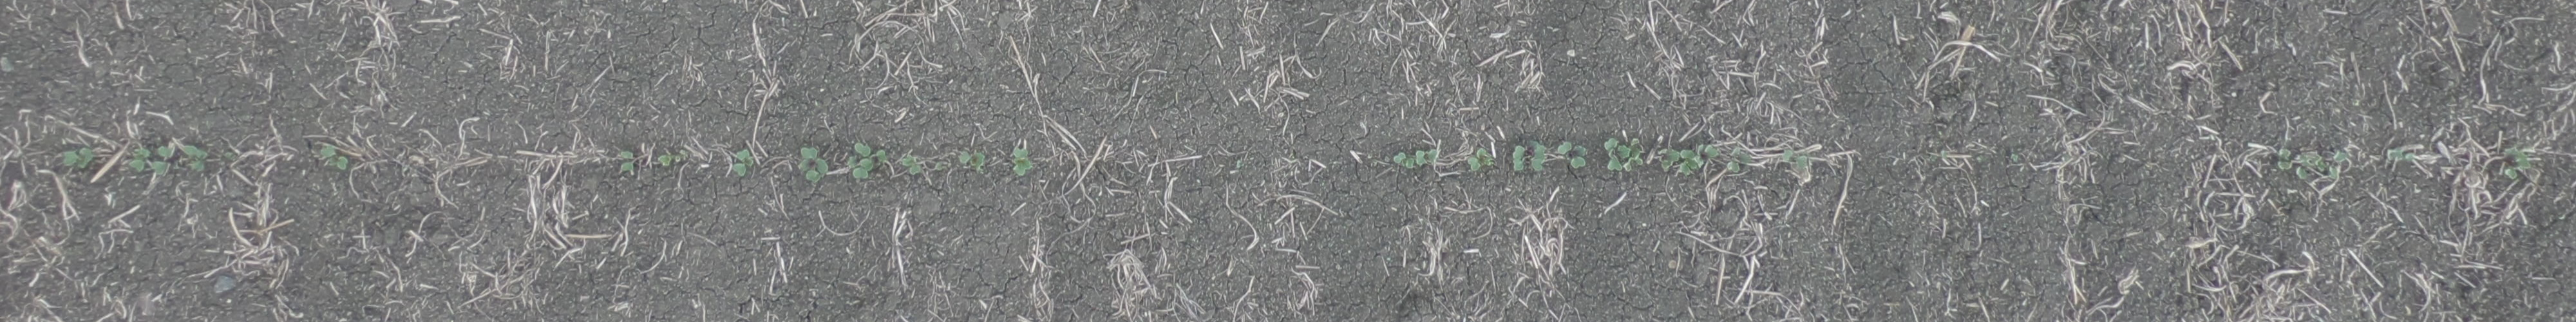plant: (2279, 148, 2348, 179), (1659, 143, 1718, 176), (846, 143, 887, 179), (1603, 136, 1644, 171), (798, 146, 828, 182), (1513, 143, 1544, 172), (2502, 146, 2530, 179), (1557, 141, 1587, 169), (320, 145, 348, 171), (182, 146, 209, 172), (64, 148, 95, 169), (1727, 148, 1751, 172), (153, 146, 172, 176), (1014, 146, 1032, 177), (1467, 148, 1488, 172), (733, 149, 751, 177), (128, 149, 149, 172), (1782, 149, 1807, 169), (959, 151, 986, 168), (2385, 148, 2418, 161), (902, 154, 922, 176), (657, 153, 685, 168), (1415, 149, 1437, 166), (619, 151, 636, 172), (1395, 153, 1413, 168), (1930, 149, 1950, 163), (2011, 151, 2021, 164)
